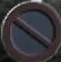No waiting: (1, 4, 57, 55)
